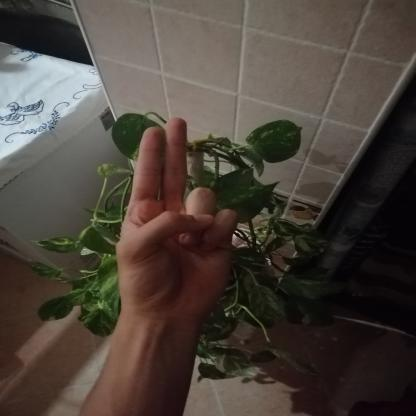TA: (101, 105, 253, 327)
